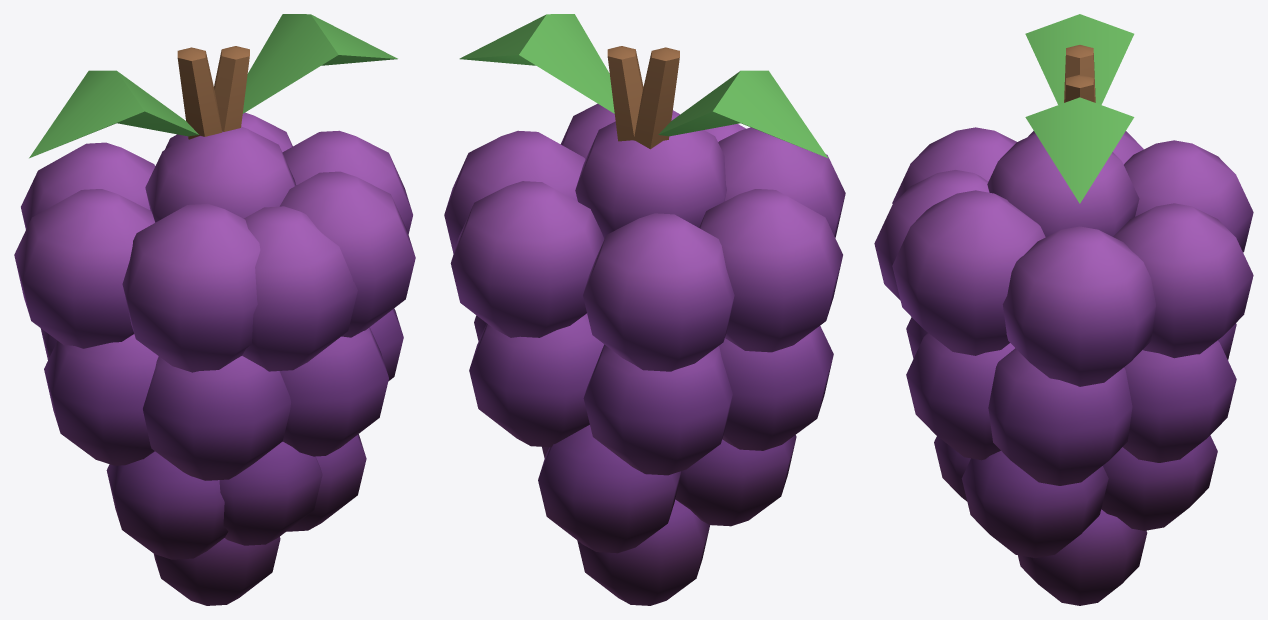
Rendered from food_grapes_bunch.glb.
The picture shows the model from 3 angles, left to right: view 1: azimuth 30°, elevation 25°; view 2: azimuth 150°, elevation 25°; view 3: azimuth 270°, elevation 25°; orthographic projection. The views are drawn at different scales.
Visible parts, largest first — view 1: Item; view 2: Item; view 3: Item.
Part boxes in pixels (x1=…): Item: x1=14, y1=14, x2=415, y2=605; Item: x1=444, y1=14, x2=845, y2=605; Item: x1=874, y1=14, x2=1253, y2=605.
Size of the model in its own units: 0.434 by 0.6046 by 0.382.
1 material, 1 textured.
